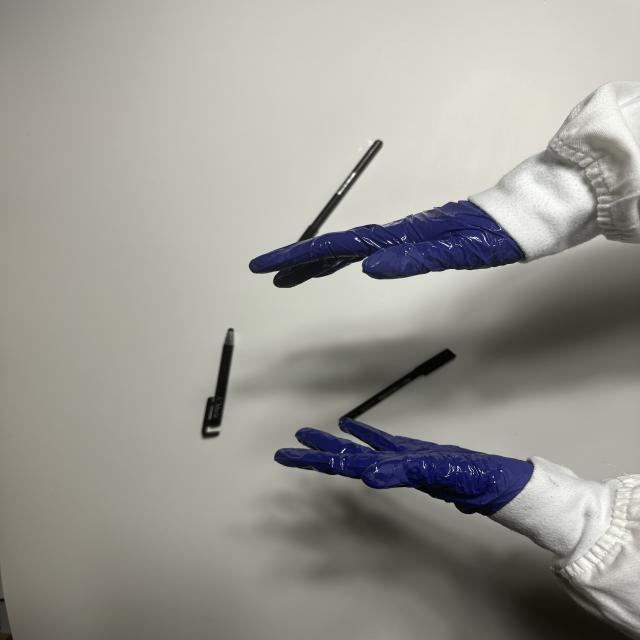gloves_contaminated: (274, 417, 534, 516), (250, 201, 524, 288)
